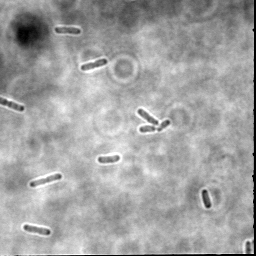Dividing: (29, 172, 63, 189), (79, 57, 108, 73), (136, 107, 159, 127), (1, 96, 26, 113), (22, 224, 51, 236), (54, 26, 82, 36)
Rod: (96, 153, 121, 166), (200, 188, 212, 209), (156, 118, 171, 133), (138, 124, 157, 134)
